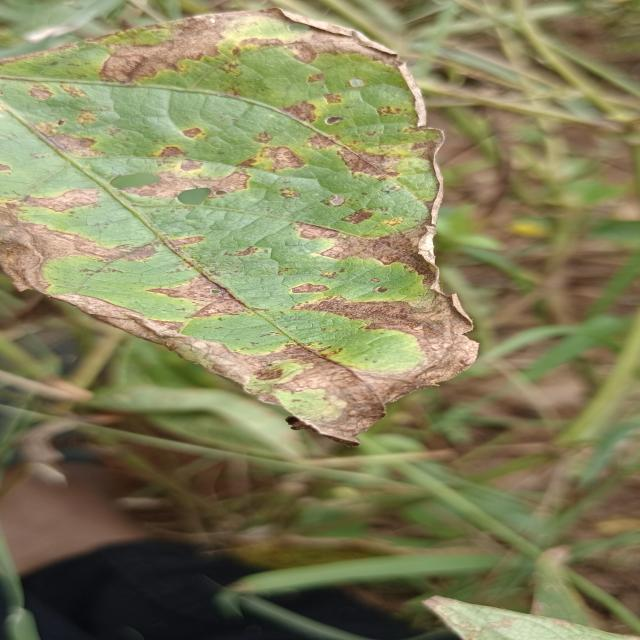Black gram_leaf spot: (0, 0, 475, 447)
